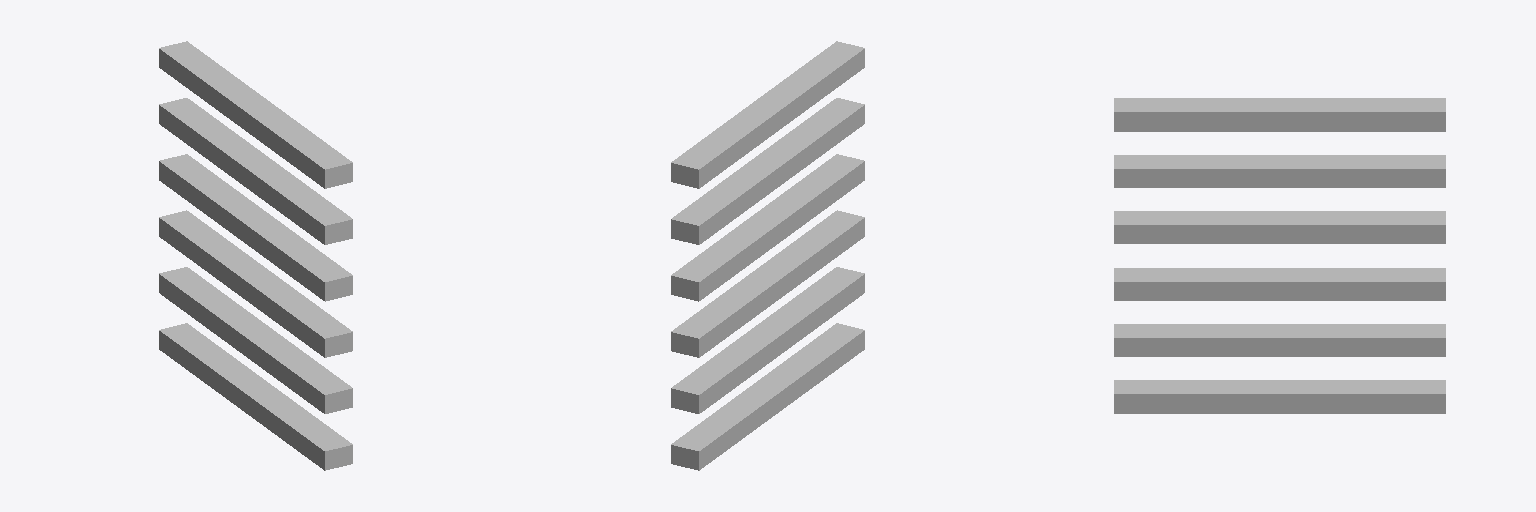
Rendered from ladder.obj.
3 views of the same model, side by side, from view 1: azimuth 30°, elevation 25°; view 2: azimuth 150°, elevation 25°; view 3: azimuth 270°, elevation 25° (orthographic).
Visible parts, largest first — view 1: Ladder; view 2: Ladder; view 3: Ladder.
Part boxes in pixels (bbox=[...]): Ladder: bbox=[159, 41, 352, 470]; Ladder: bbox=[671, 41, 864, 470]; Ladder: bbox=[1114, 98, 1445, 413].
Size of the model in its own units: 0.1923 by 1.94 by 1.94.